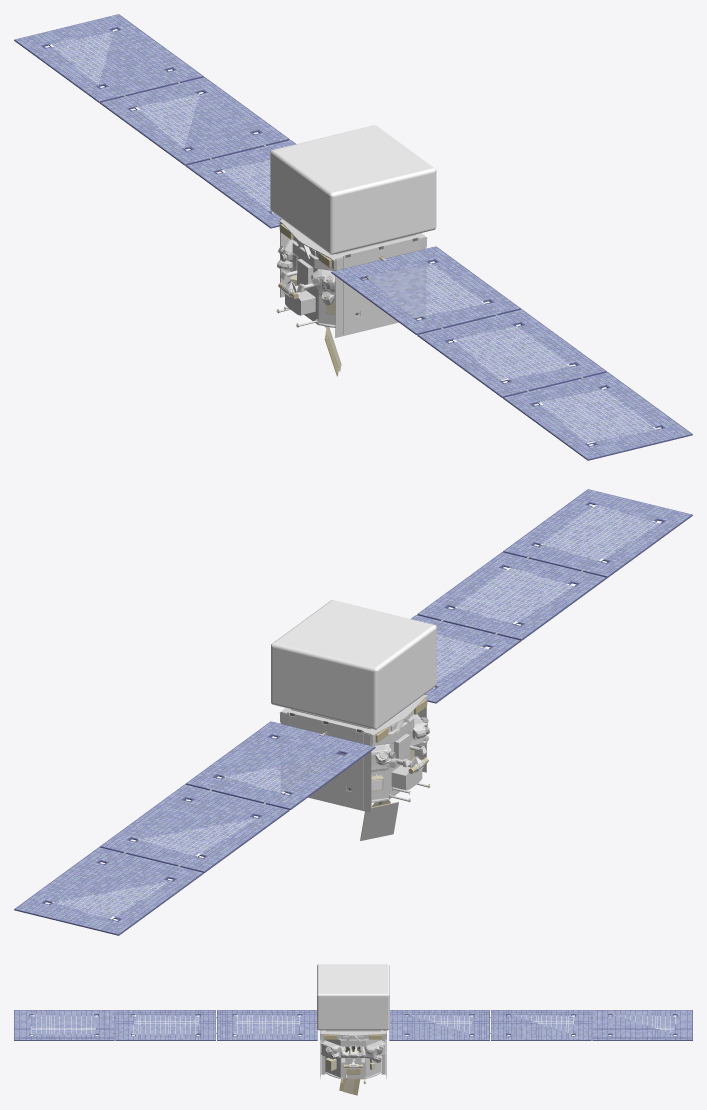
File: Fermi Gamma-ray Large Area Space Telescope.glb
3 renders of one model, top to bottom at view 1: azimuth 30°, elevation 25°; view 2: azimuth 150°, elevation 25°; view 3: azimuth 270°, elevation 25°, orthographic. The views are drawn at different scales.
Parts seen in each view (by area): view 1: Layer_1, Layer_2, Layer_0; view 2: Layer_1, Layer_2, Layer_0; view 3: Layer_1, Layer_2, Layer_0.
Boxes of the visible parts, <box> form: Layer_1: <box>14,14,692,460</box>; Layer_2: <box>270,125,436,254</box>; Layer_0: <box>276,218,429,376</box>; Layer_1: <box>14,489,692,935</box>; Layer_2: <box>271,600,436,729</box>; Layer_0: <box>277,693,430,840</box>; Layer_1: <box>14,1010,692,1040</box>; Layer_2: <box>317,964,389,1030</box>; Layer_0: <box>320,1030,386,1095</box>.
Bounding box in the file's own units: 8.55 × 12.1 × 62.31.
